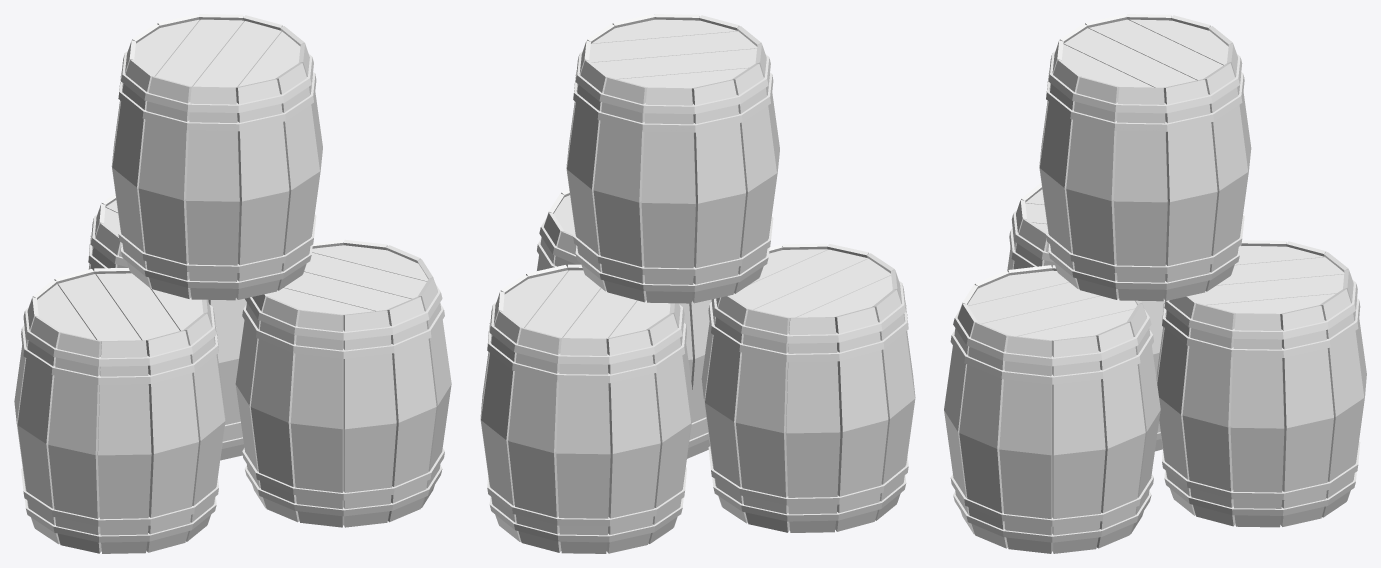
Rendered from Prop_Barrel_Pile_02.glb.
3 renders of one model, left to right at view 1: azimuth 30°, elevation 25°; view 2: azimuth 150°, elevation 25°; view 3: azimuth 270°, elevation 25°, orthographic.
Parts seen in each view (by area): view 1: Prop_Barrel_Pile_02; view 2: Prop_Barrel_Pile_02; view 3: Prop_Barrel_Pile_02.
Part boxes in pixels (box(x1,y1,x2,y2)): Prop_Barrel_Pile_02: box(14, 14, 451, 553); Prop_Barrel_Pile_02: box(480, 14, 915, 553); Prop_Barrel_Pile_02: box(944, 14, 1366, 553).
Size of the model in its own units: 1.69 by 1.8 by 1.62.
1 material, 1 textured.
